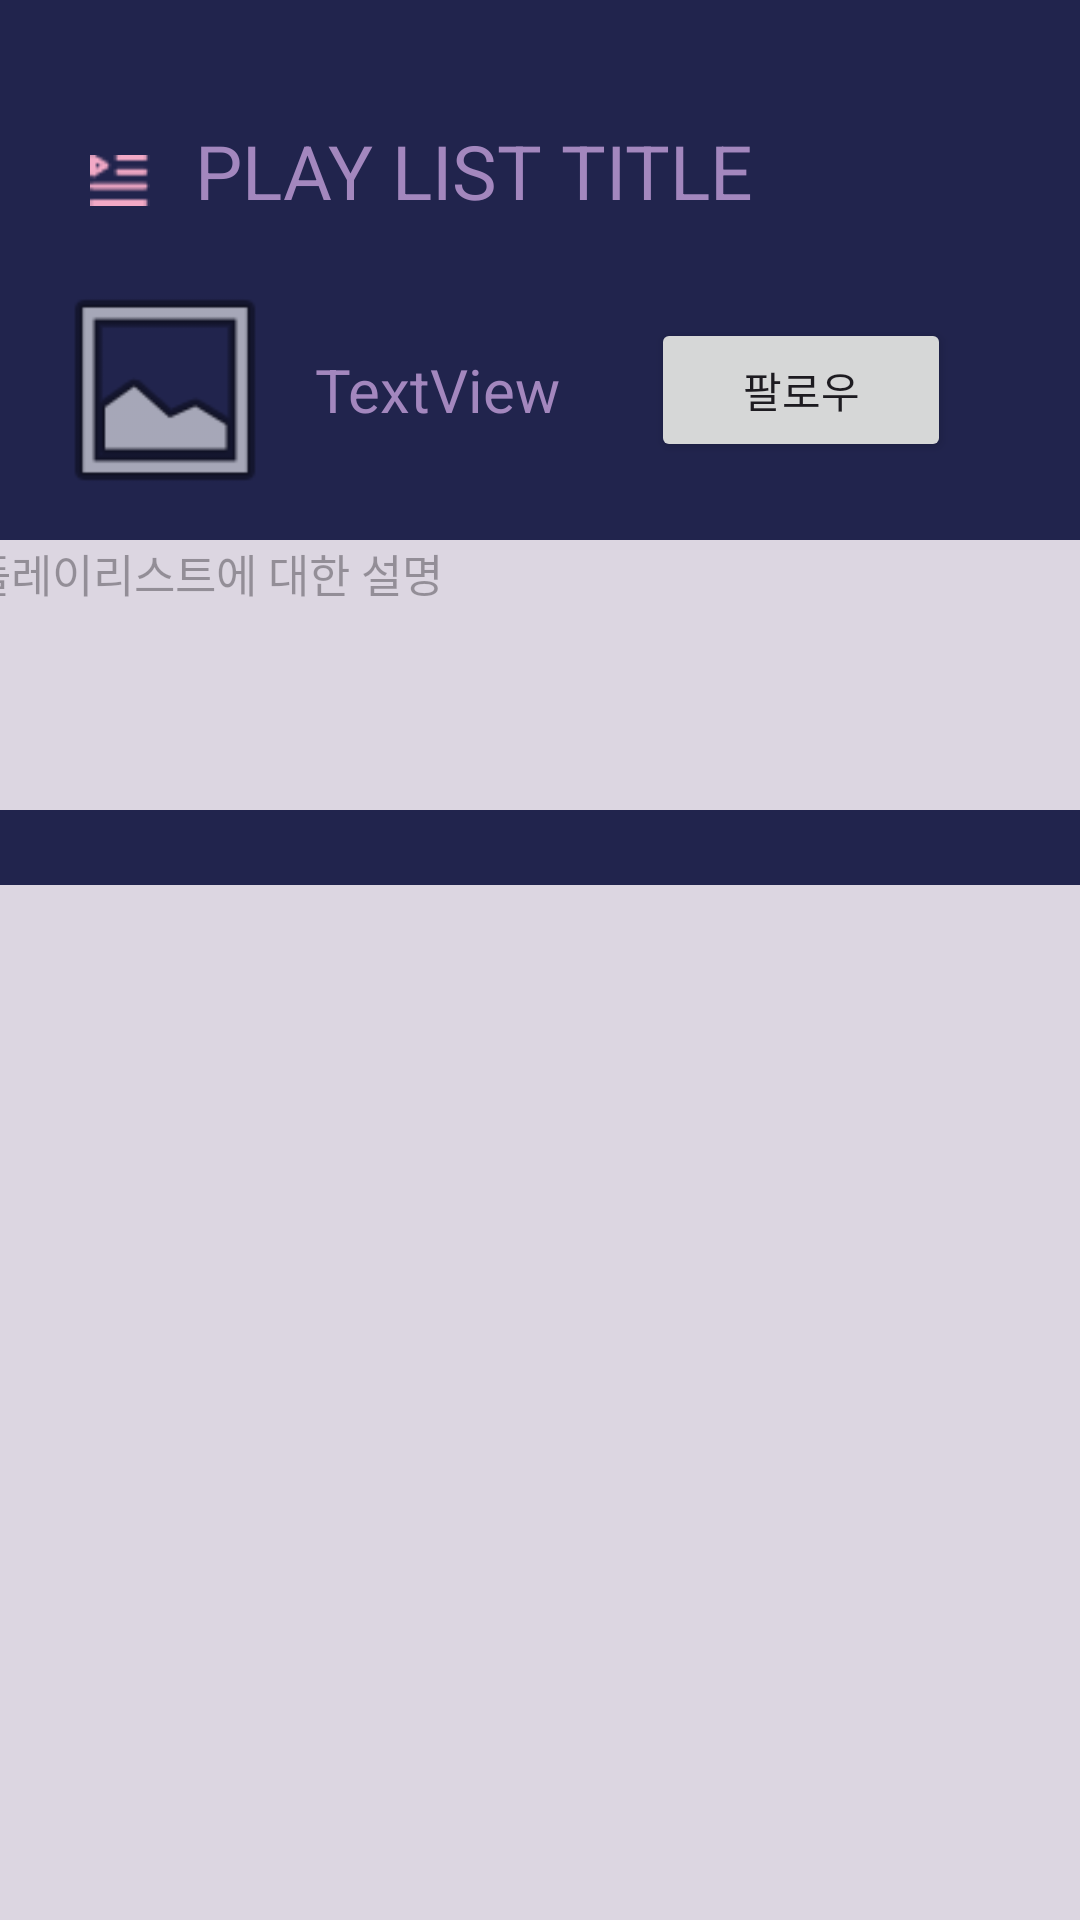

Icons on this 1080*1920 Android screen, each with its box as (left=x1, top=y1, right=x2, bottom=y2):
gallery: (left=76, top=301, right=254, bottom=479)
